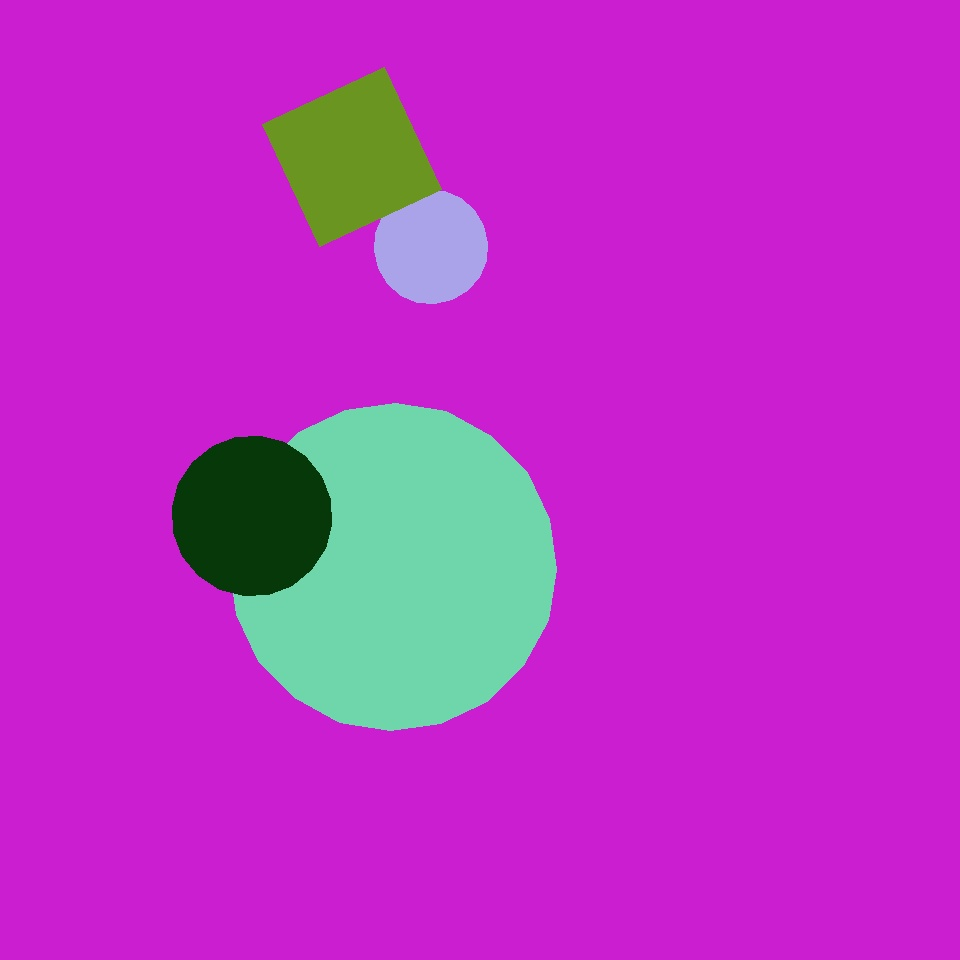circle: (545, 249, 829, 531), (56, 648, 286, 907)
square: (512, 441, 817, 746), (262, 68, 441, 246)
triangle: (381, 314, 713, 646), (406, 180, 738, 512), (229, 404, 556, 730), (172, 436, 332, 595), (28, 189, 153, 314), (374, 190, 488, 303)
